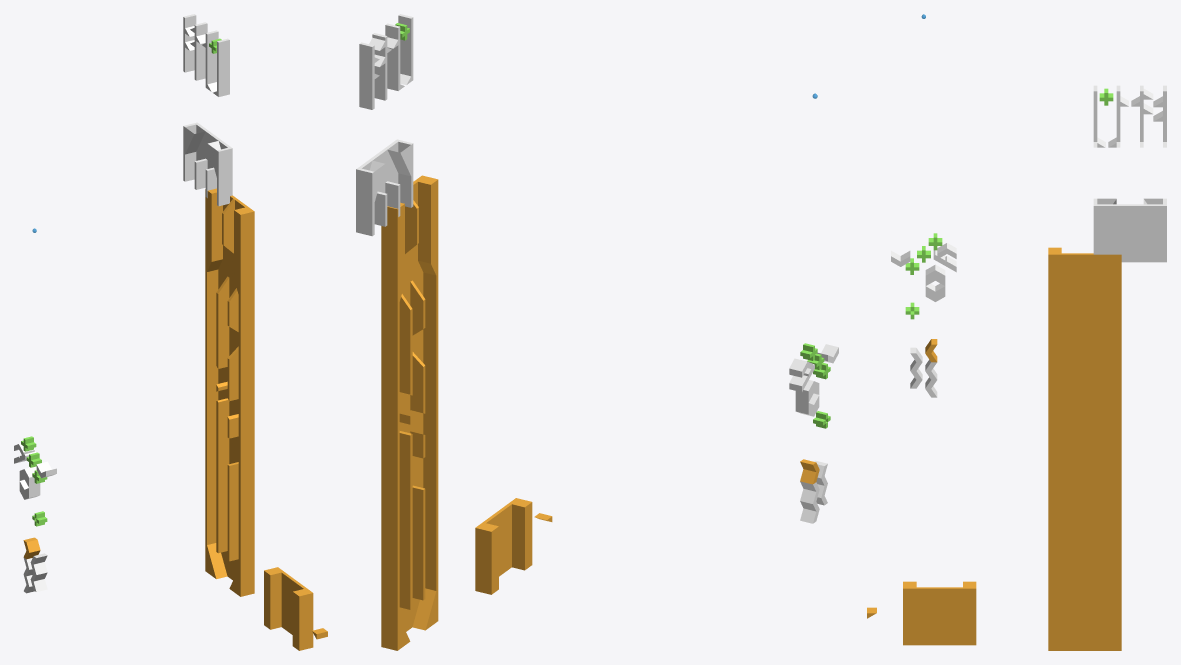
The model's file is TRACK2.fbx.
The picture shows the model from 3 angles, left to right: view 1: azimuth 30°, elevation 25°; view 2: azimuth 150°, elevation 25°; view 3: azimuth 270°, elevation 25°; orthographic projection. The views are drawn at different scales.
Visible parts, largest first — view 1: Group64, Group50, Group75, Group38, Group45, Group37, Group36, Group47, Group58, Group20, Group89, Group107 (+16 smaller); view 2: Group50, Group64, Group75, Group37, Group38, Group45, Group36, Group47, Group49, Group110, Group57, Group86 (+13 smaller); view 3: Group36, Group43, Group96, Group105, Group23, Group52, Group78, Group80, Group49, Group64.
Part boxes in pixels (x1,y1,x2,y2): Group64: (183,14,229,96); Group50: (183,123,229,206); Group75: (205,244,251,323); Group38: (292,589,310,650); Group45: (234,207,251,269); Group37: (264,568,281,629); Group36: (275,567,313,648); Group47: (205,188,222,248); Group58: (238,539,251,596); Group20: (238,430,251,487); Group89: (238,376,251,433); Group107: (238,485,251,542); Group50: (359,140,413,236); Group64: (359,14,413,109); Group75: (384,243,438,335); Group37: (478,523,498,594); Group38: (512,499,532,570); Group45: (418,176,438,247); Group36: (475,498,518,591); Group47: (384,202,404,272); Group49: (356,139,399,232); Group110: (384,522,399,587); Group57: (384,585,399,650); Group86: (384,332,399,398); Group36: (903,587,976,645); Group43: (1048,253,1121,311); Group96: (1048,424,1121,481); Group105: (1048,537,1121,594); Group23: (1048,481,1121,537); Group52: (1048,594,1121,650); Group78: (1048,311,1121,367); Group80: (1048,368,1121,424); Group49: (1093,204,1166,262); Group64: (1093,85,1166,147).
Size of the model in its own units: 7004 by 12660 by 6160.
